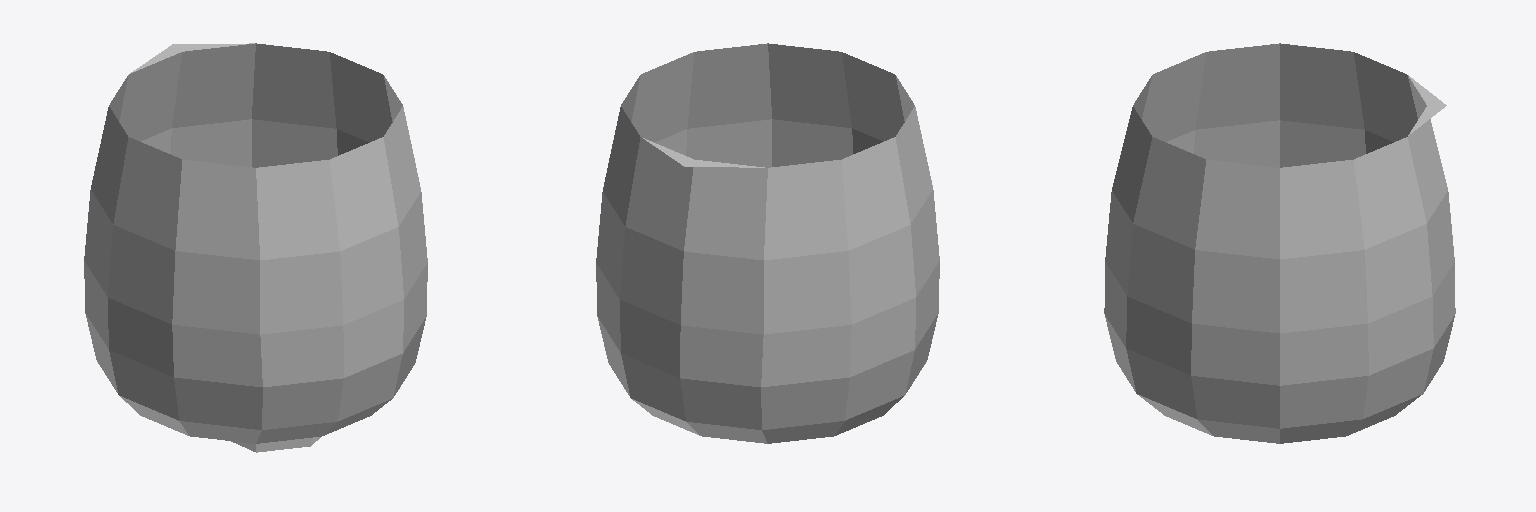
Rendered from lamp_glass.obj.
The picture shows the model from 3 angles: view 1: azimuth 30°, elevation 25°; view 2: azimuth 150°, elevation 25°; view 3: azimuth 270°, elevation 25°; orthographic projection.
Parts seen in each view (by area): view 1: Light.001_Mesh.002; view 2: Light.001_Mesh.002; view 3: Light.001_Mesh.002.
Boxes of the visible parts, box(x1,y1,x2,y2) form: Light.001_Mesh.002: box(84, 43, 427, 452); Light.001_Mesh.002: box(596, 43, 939, 443); Light.001_Mesh.002: box(1104, 43, 1455, 443).
Bounding box in the file's own units: 0.0795 × 0.077 × 0.0815.